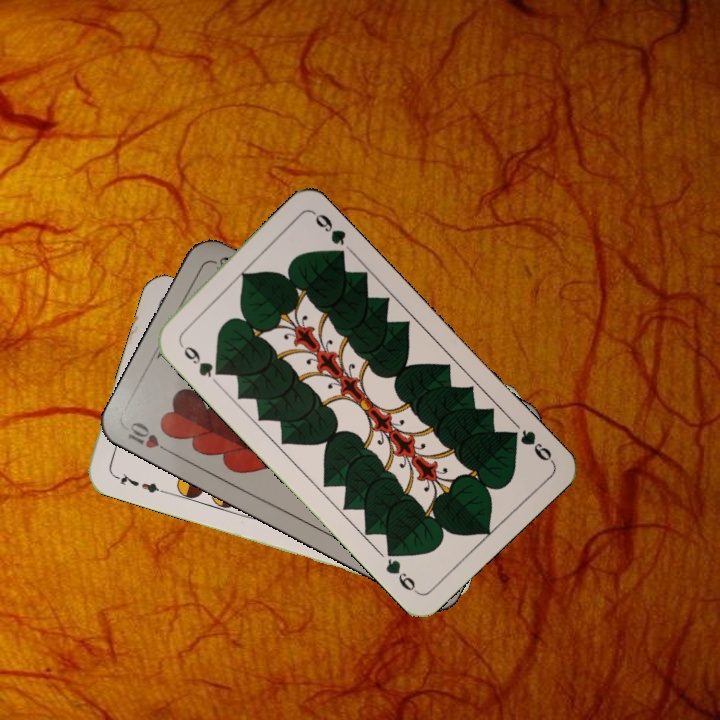E7: (110, 470, 167, 496)
G9: (175, 337, 226, 381), (503, 425, 556, 465)
H10: (123, 418, 177, 458)
